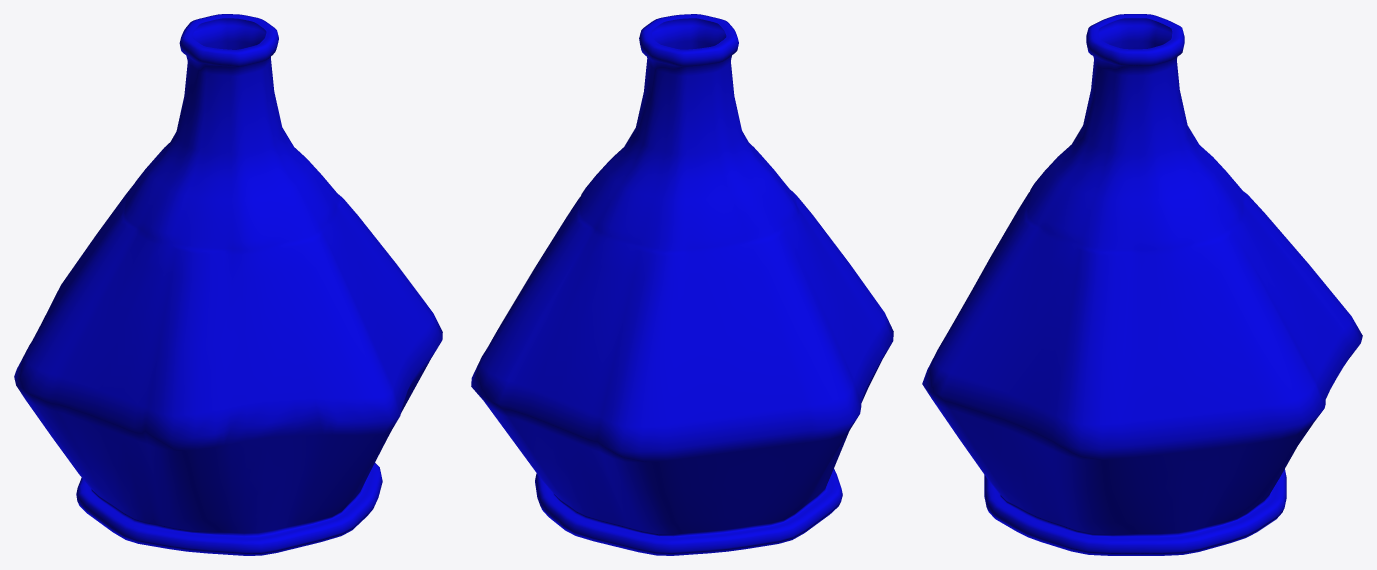
Rendered from potion6.fbx.
The picture shows the model from 3 angles, left to right: view 1: azimuth 30°, elevation 25°; view 2: azimuth 150°, elevation 25°; view 3: azimuth 270°, elevation 25°; orthographic projection.
Parts seen in each view (by area): view 1: pCube4; view 2: pCube4; view 3: pCube4.
Part boxes in pixels (<box>): pCube4: <box>14,14,442,555</box>; pCube4: <box>471,14,893,555</box>; pCube4: <box>922,14,1362,555</box>.
Size of the model in its own units: 4.98 by 5.83 by 5.06.
